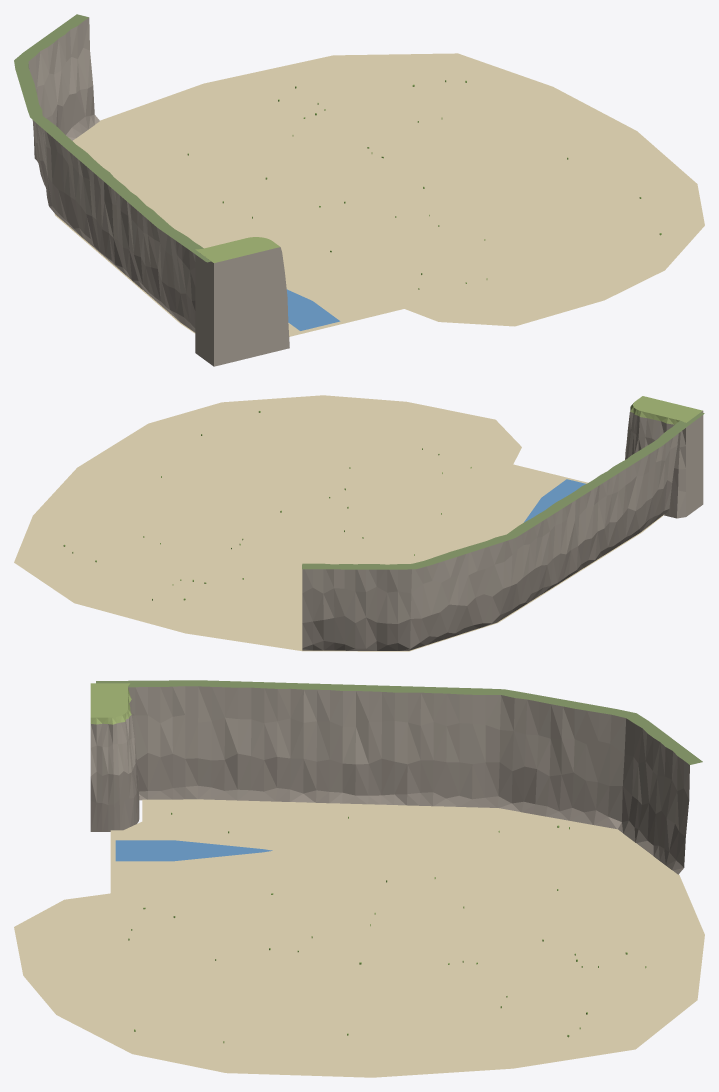
File: playa.glb
3 renders of one model, top to bottom at view 1: azimuth 30°, elevation 25°; view 2: azimuth 150°, elevation 25°; view 3: azimuth 270°, elevation 25°, orthographic. The views are drawn at different scales.
Visible parts, largest first — view 1: PlayaMeadow, PlayaAcantiladoCanyon, PlayaRemateRock-col, PlayaRio; view 2: PlayaMeadow, PlayaAcantiladoCanyon, PlayaRemateRock-col, PlayaRio, PlayaHoyoCanyon; view 3: PlayaMeadow, PlayaAcantiladoCanyon, PlayaRemateRock-col, PlayaRio.
Boxes of the visible parts, x1,y1,x2,y2 form: PlayaMeadow: (54,53,704,336); PlayaAcantiladoCanyon: (14,14,211,332); PlayaRemateRock-col: (195,237,289,366); PlayaRio: (286,289,340,330); PlayaMeadow: (14,395,663,651); PlayaAcantiladoCanyon: (302,412,704,650); PlayaRemateRock-col: (625,396,703,518); PlayaRio: (524,479,585,522); PlayaHoyoCanyon: (15,448,663,651); PlayaMeadow: (14,799,704,1077); PlayaAcantiladoCanyon: (96,680,702,874); PlayaRemateRock-col: (90,683,139,831); PlayaRio: (115,840,272,861).
Size of what is drawn, in the model's own units: 139 by 24.5 by 140.
